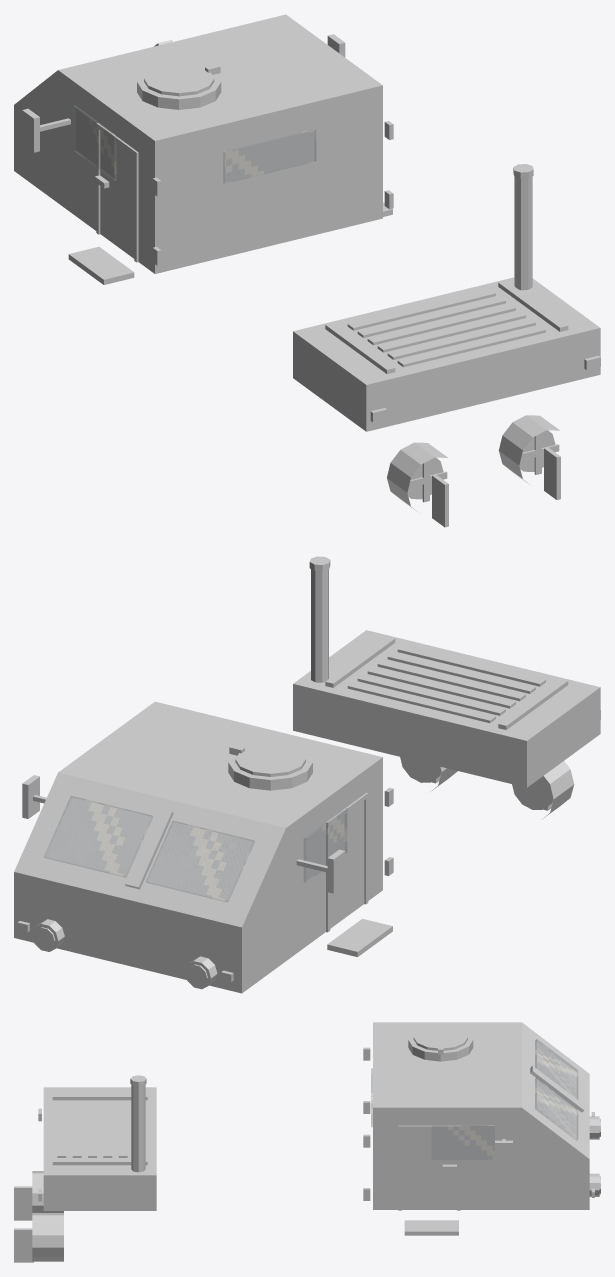
Rendered from truck_engine.glb.
The picture shows the model from 3 angles, top to bottom: view 1: azimuth 30°, elevation 25°; view 2: azimuth 150°, elevation 25°; view 3: azimuth 270°, elevation 25°; orthographic projection. The views are drawn at different scales.
Parts seen in each view (by area): view 1: gas_station_town; view 2: gas_station_town; view 3: gas_station_town.
Part boxes in pixels (<box>): gas_station_town: <box>14,14,600,527</box>; gas_station_town: <box>14,556,600,993</box>; gas_station_town: <box>14,1022,600,1262</box>.
Size of the model in its own units: 3.06 by 2.45 by 6.51.
2 materials, 1 textured.
